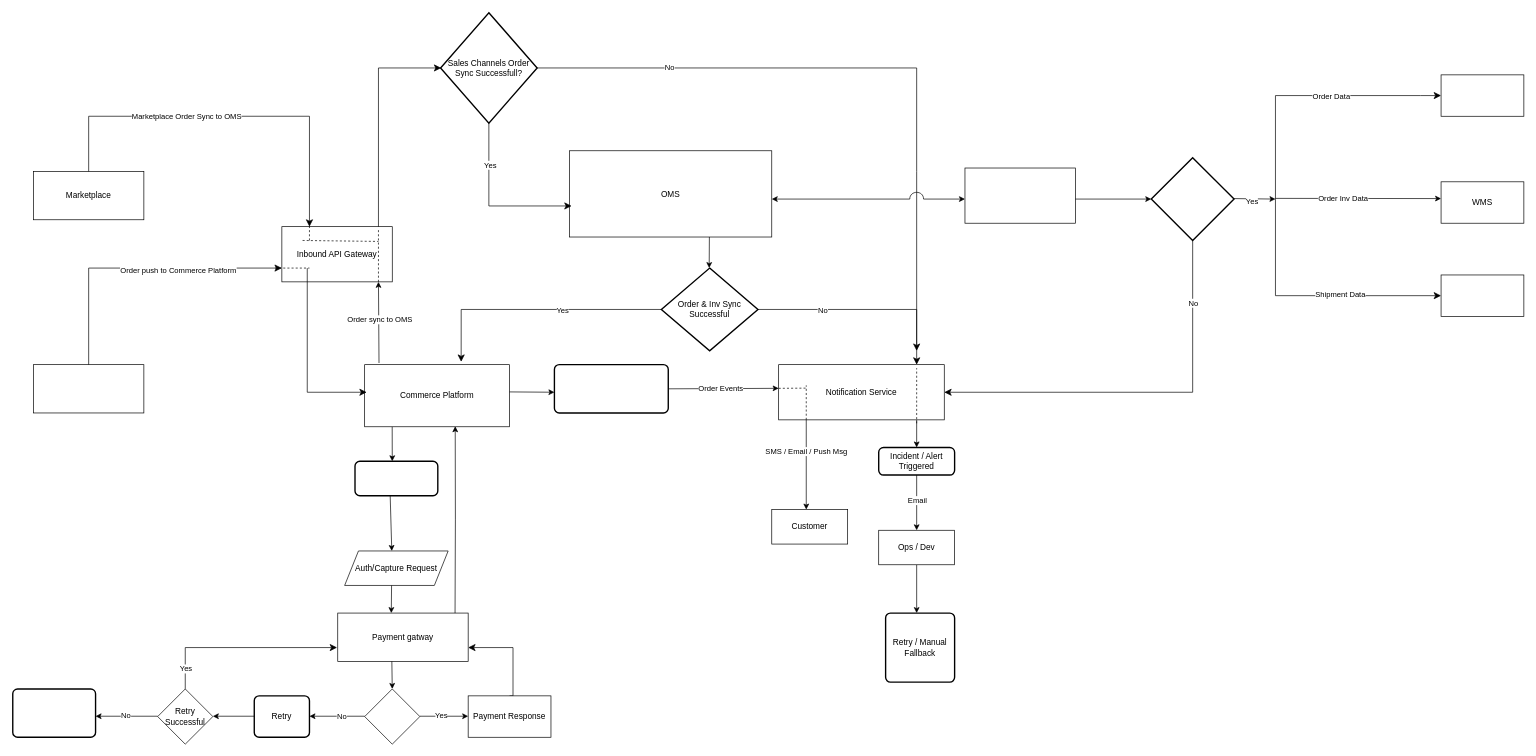
Some shapes in this 1536 by 756 pixel diagram are drawn without their labels. Each missing label, with the box of its shape:
ERP: (1440, 74, 1524, 116)
Logistics: (1440, 274, 1524, 316)
Mobile app / Website: (33, 364, 144, 413)
Order & Inv Data Sync Successful: (1150, 157, 1234, 241)
Order & Inv Sync Gateway: (964, 167, 1075, 223)
Order Created with Status: Pending: (354, 460, 438, 496)
Payment Successful: (364, 688, 420, 744)
Update Order Status: (553, 364, 669, 413)
Update Order Status: Payment Failed: (12, 688, 96, 738)
